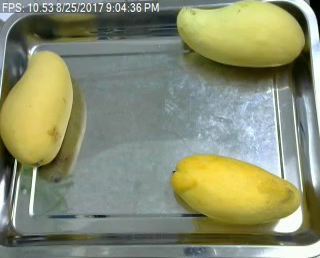Mango: (170, 152, 303, 223), (173, 0, 305, 70), (0, 50, 76, 168)
